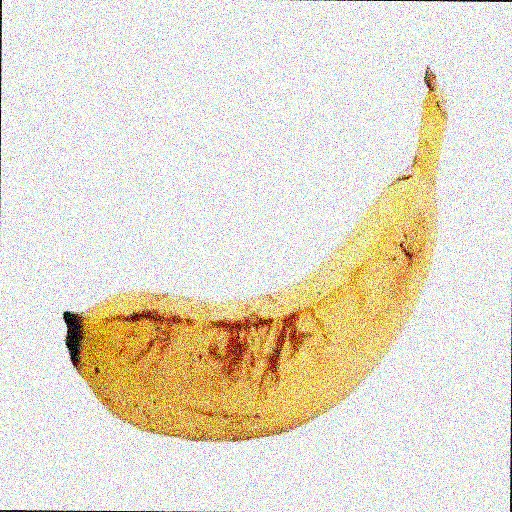fruit: (398, 47, 476, 290)
